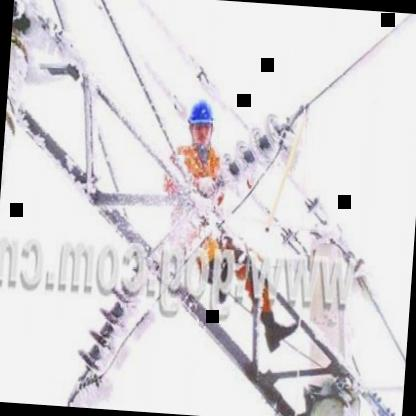helmet: (185, 92, 220, 153)
